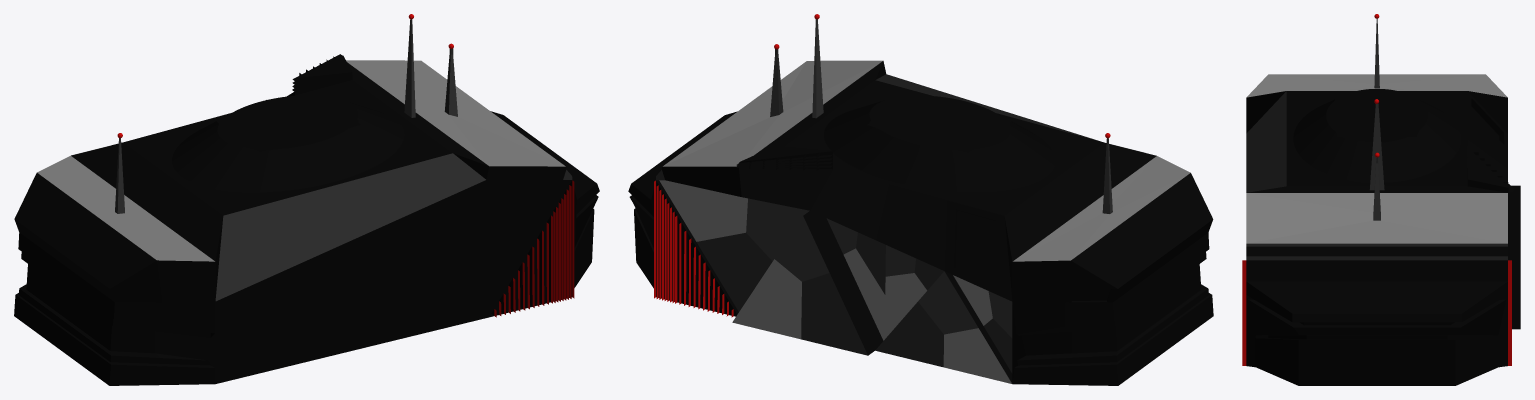
File: Sports Arena.fbx
3 renders of one model, left to right at view 1: azimuth 30°, elevation 25°; view 2: azimuth 150°, elevation 25°; view 3: azimuth 270°, elevation 25°, orthographic. The views are drawn at different scales.
Parts seen in each view (by area): view 1: Cube (×5); view 2: Cube (×5); view 3: Cube (×5).
Boxes of the visible parts, x1,y1,x2,y2 form: Cube (×5): [14, 14, 599, 385]; Cube (×5): [628, 14, 1213, 385]; Cube (×5): [1242, 14, 1520, 385].
Bounding box in the file's own units: 20389 × 9982 × 11059.
